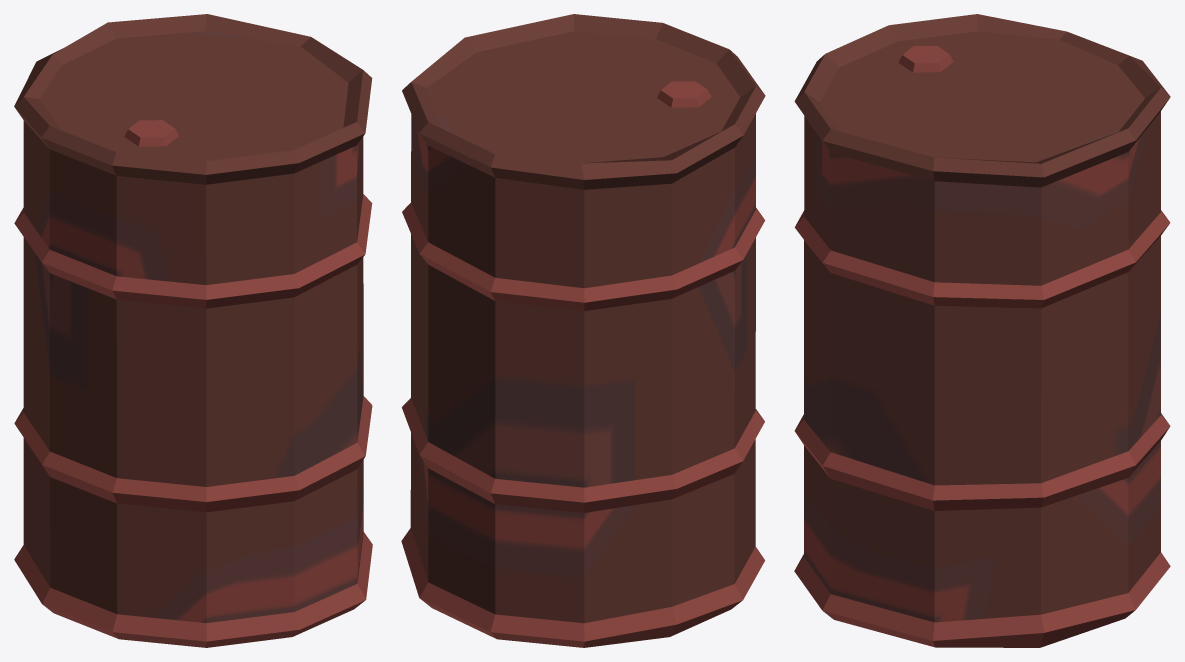
File: SM_Gen_Prop_Barrel_Metal_03.glb
3 views of the same model, side by side, from view 1: azimuth 30°, elevation 25°; view 2: azimuth 150°, elevation 25°; view 3: azimuth 270°, elevation 25° (orthographic).
Visible parts, largest first — view 1: SM_Gen_Prop_Barrel_Metal_03; view 2: SM_Gen_Prop_Barrel_Metal_03; view 3: SM_Gen_Prop_Barrel_Metal_03.
Boxes of the visible parts, <box> form: SM_Gen_Prop_Barrel_Metal_03: <box>14,14,372,647</box>; SM_Gen_Prop_Barrel_Metal_03: <box>401,14,765,647</box>; SM_Gen_Prop_Barrel_Metal_03: <box>794,14,1170,647</box>.
Size of the model in its own units: 0.6949 by 1.05 by 0.7261.
Materials: 1 (1 with a texture image).
